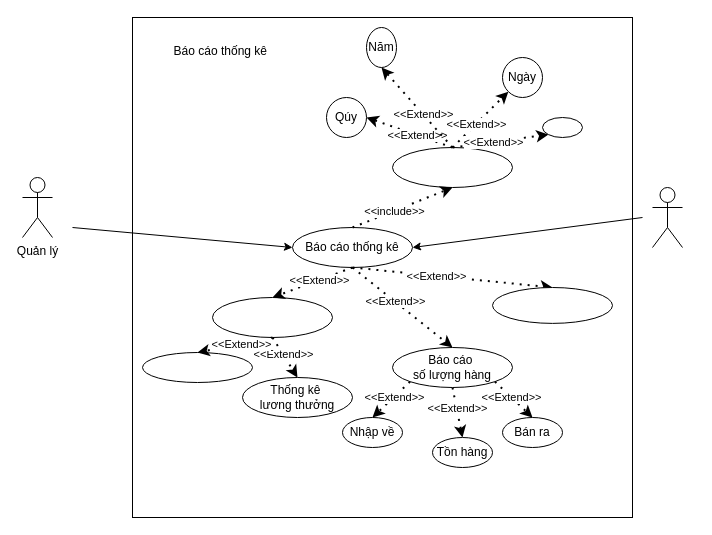
Some shapes in this 712 by 535 pixel diagram are drawn without their labels. The shapes that lost their labels are listed below. From the top down, each one's centre as x and y in pixels, then its label:
point (562, 127): Tháng
point (452, 167): Báo cáo doanh thu
point (667, 217): Nhân viên
point (272, 317): Báo cáo nhân viên
point (552, 304): Báo cáo số lượng khách hàng
point (197, 367): Thống kê giờ làm
